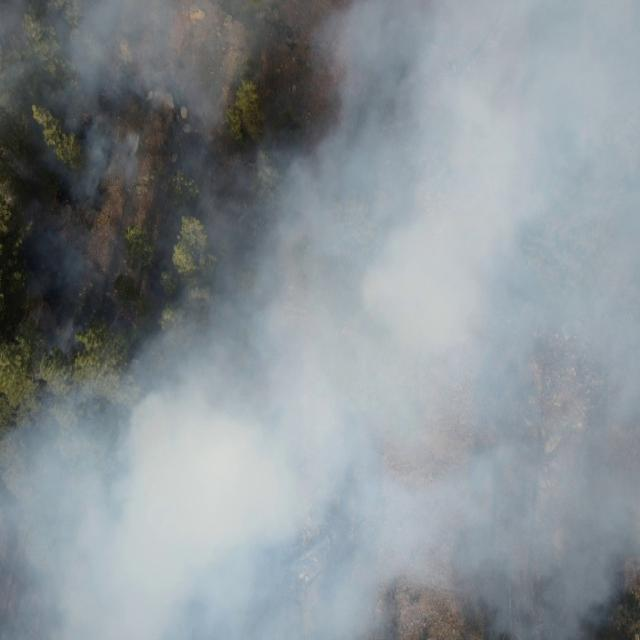fire: (116, 304, 141, 332), (81, 108, 92, 124)
smoke: (150, 1, 640, 379), (2, 380, 640, 640), (0, 0, 147, 336), (93, 336, 151, 380), (48, 334, 78, 357)
